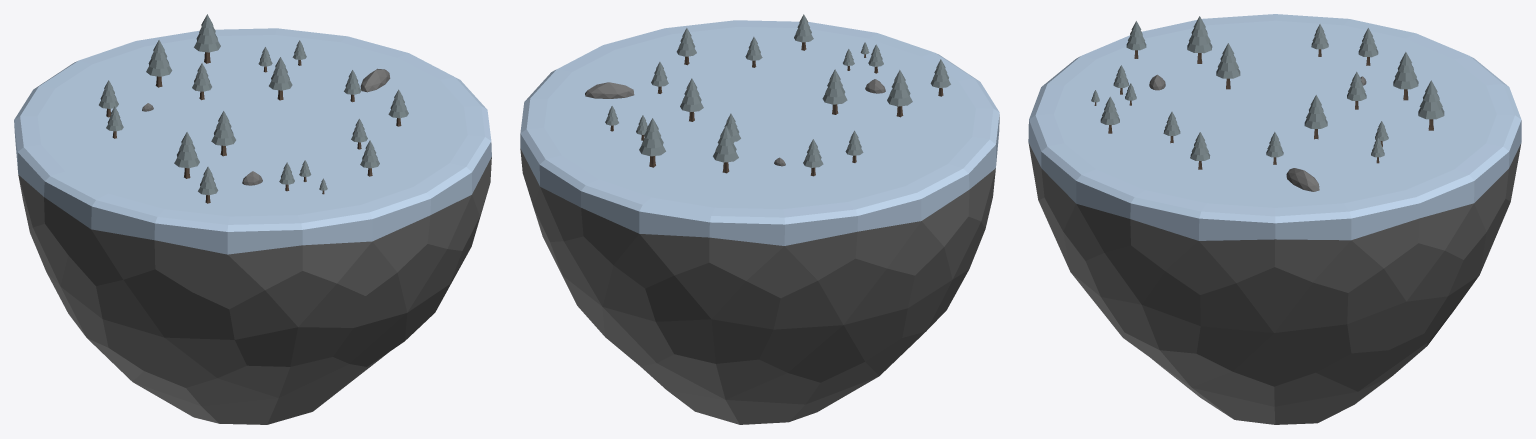
The model's file is wolfIslandScene.glb.
3 views of the same model, side by side, from view 1: azimuth 30°, elevation 25°; view 2: azimuth 150°, elevation 25°; view 3: azimuth 270°, elevation 25° (orthographic). The views are drawn at different scales.
Parts seen in each view (by area): view 1: island; view 2: island; view 3: island.
Part boxes in pixels (box(x1,y1,x2,y2)): island: box(14, 14, 491, 424); island: box(520, 14, 999, 424); island: box(1028, 14, 1521, 424).
Size of the model in its own units: 119 by 94.15 by 119.
